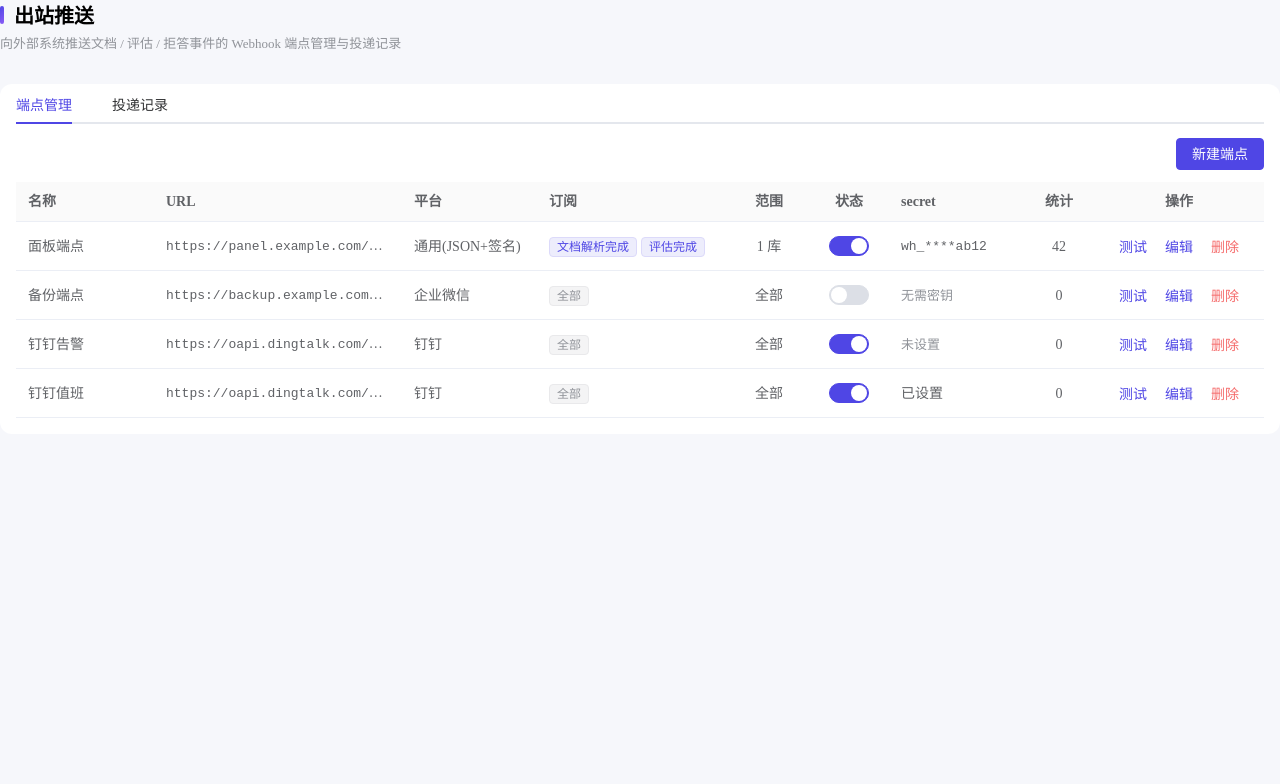
Scenario: WebhooksPage › create dialog submits and shows one-time secret
The width and height of the screenshot is (1280, 784).
Click the button "新建端点": (1220, 154) [1176,138,1264,170]
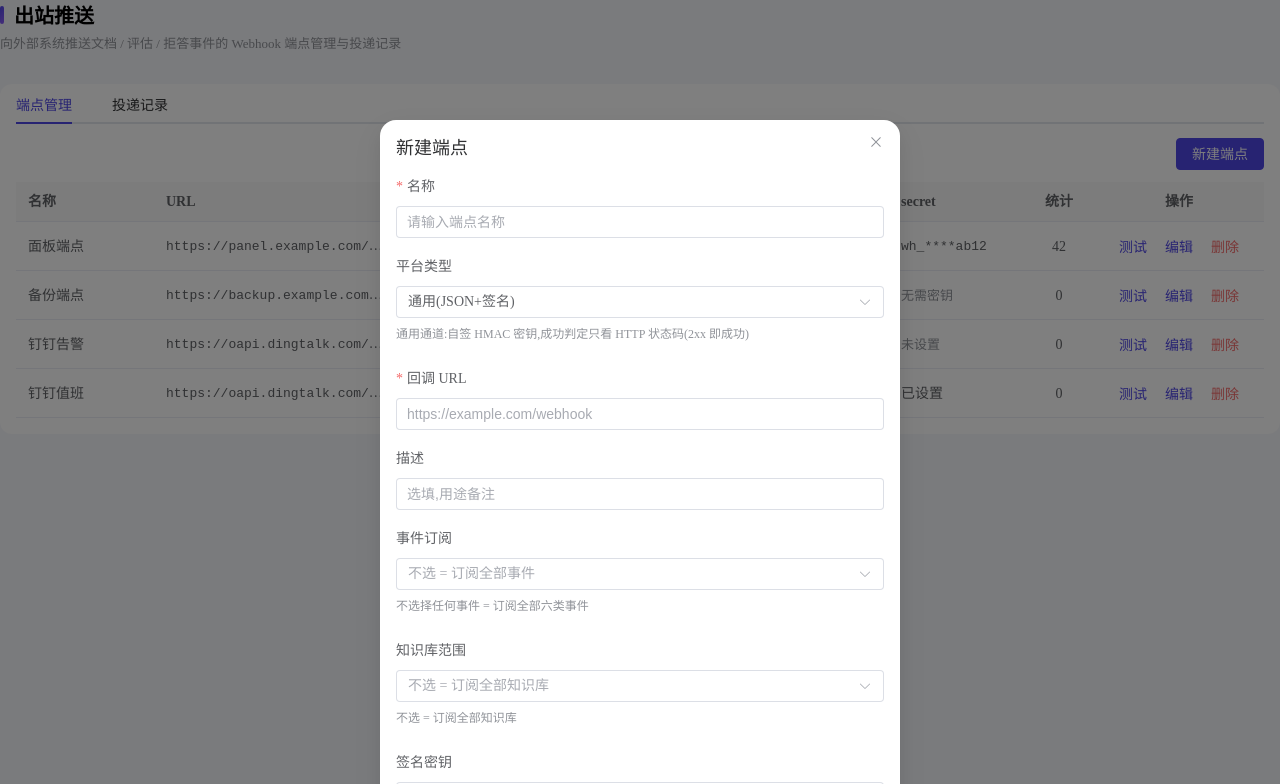
In the field with placeholder "请输入端点名称": (640, 222) [407,207,873,237], type "新端点"
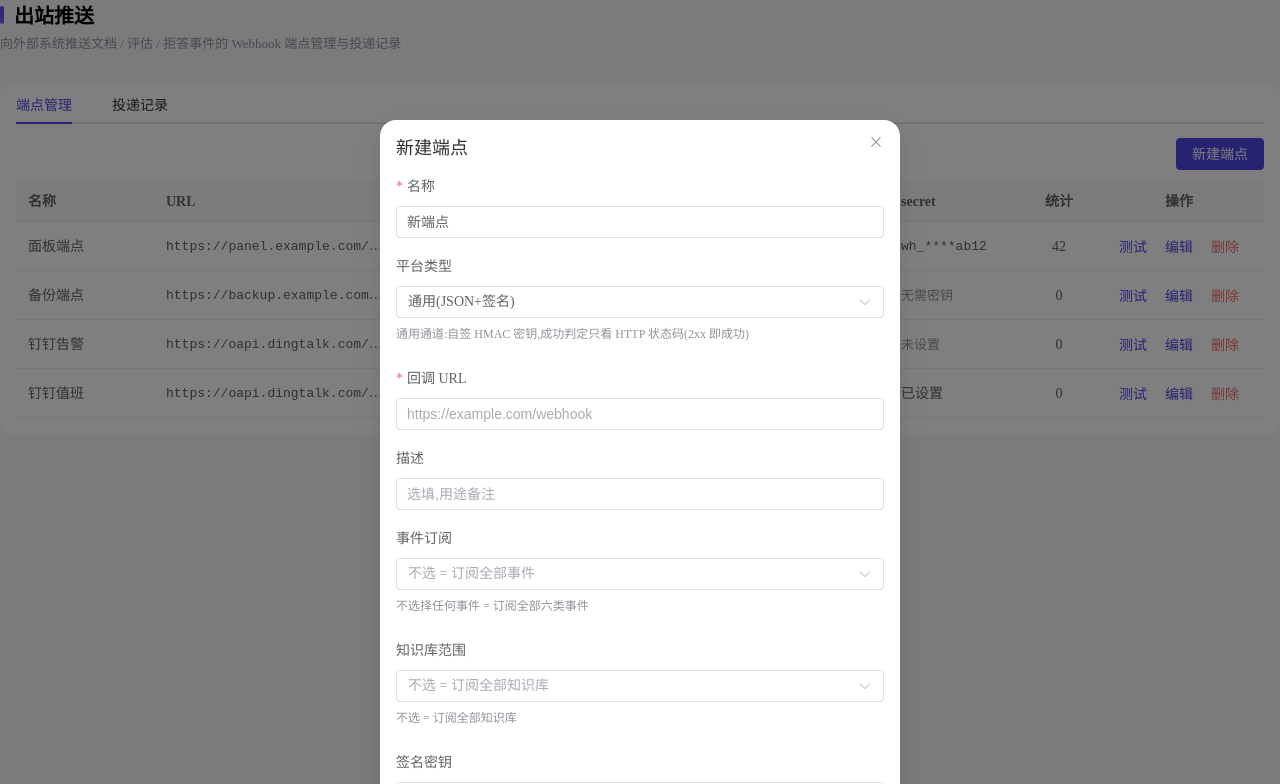
In the field with placeholder "https://example.com/webhook": (640, 414) [407,399,873,429], type "https://new.example.com/hook"
(page scrolled)
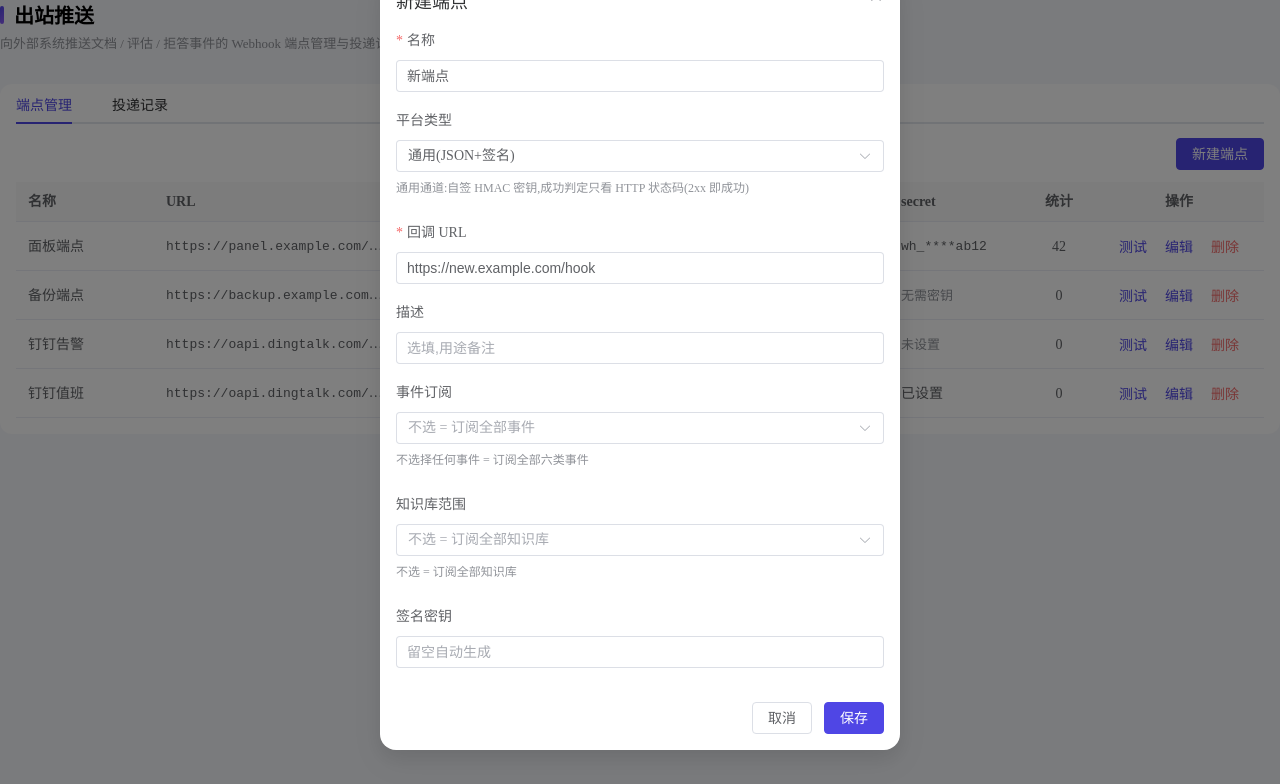
Expected: the button "保存" is shown
Click the button "保存": (854, 718) [824,702,884,734]
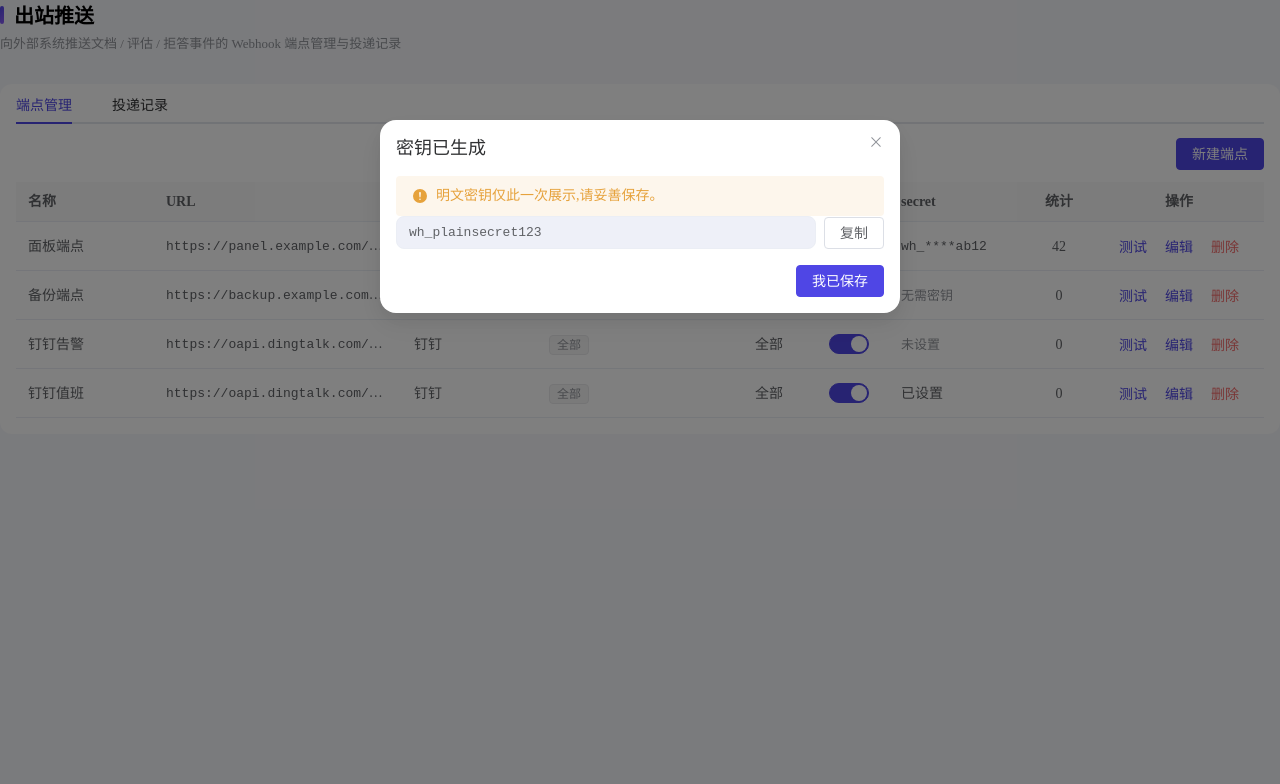
Expected: the text "wh_plainsecret123" is shown, [396,216,816,249]
Expected: the text "仅此一次" is shown, [436,188,664,203]
